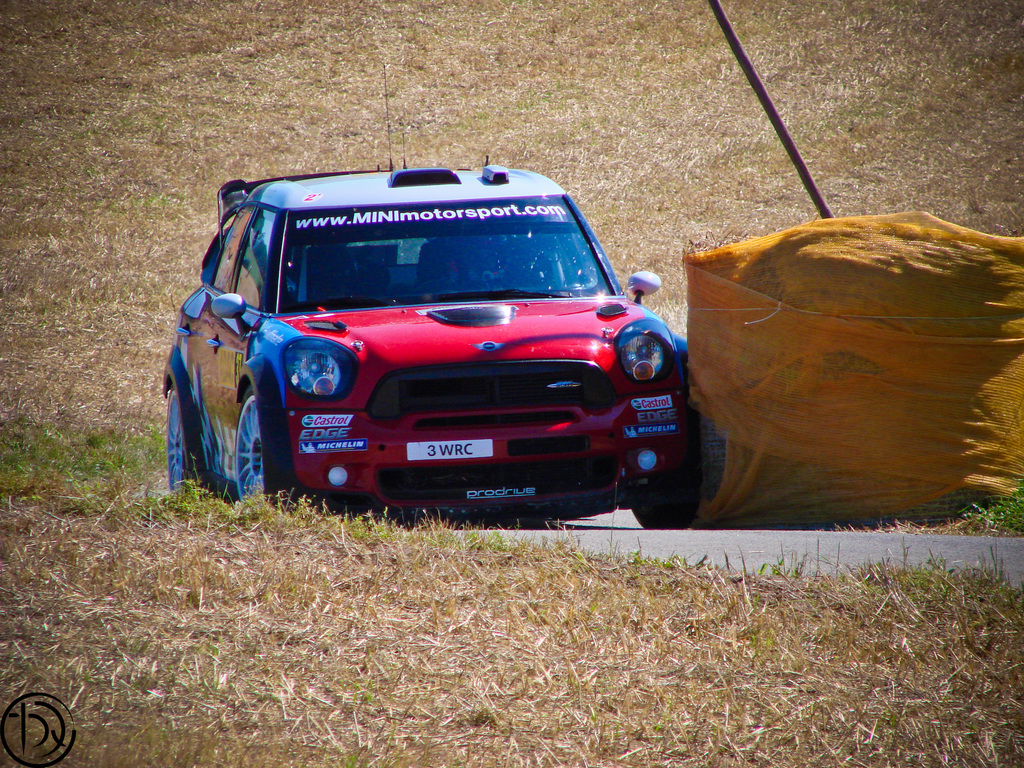cars: (150, 163, 685, 529)
